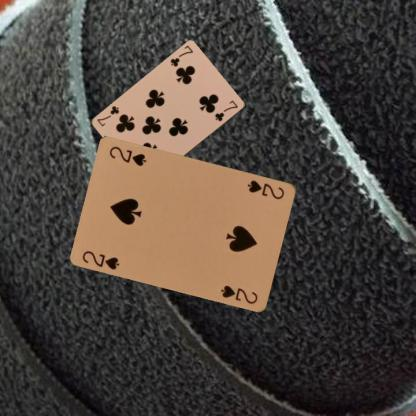2s: (80, 248, 122, 271), (246, 178, 286, 200)
7c: (168, 42, 194, 68)
